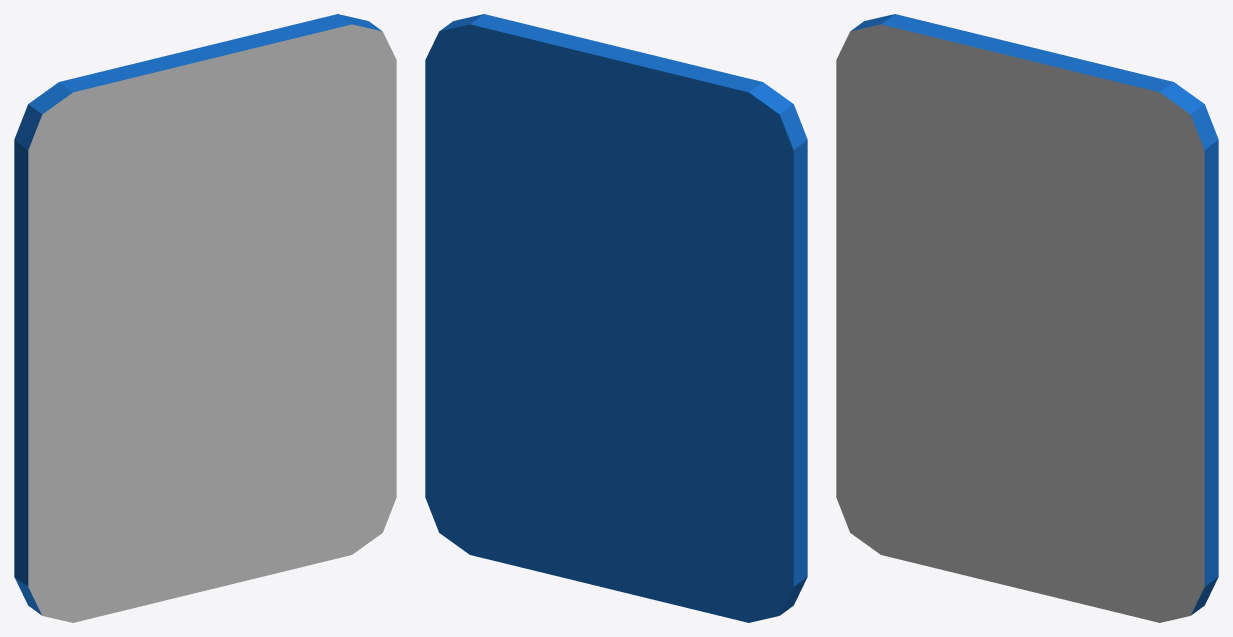
Rendered from SM_pedestrian_zone.fbx.
3 views of the same model, side by side, from view 1: azimuth 30°, elevation 25°; view 2: azimuth 150°, elevation 25°; view 3: azimuth 330°, elevation 25° (orthographic).
Parts seen in each view (by area): view 1: Cube_29; view 2: Cube_29; view 3: Cube_29.
Boxes of the visible parts, x1,y1,x2,y2 form: Cube_29: (14,14,396,622); Cube_29: (425,14,807,622); Cube_29: (836,14,1218,622).
Bounding box in the file's own units: 45 × 61.94 × 3.
